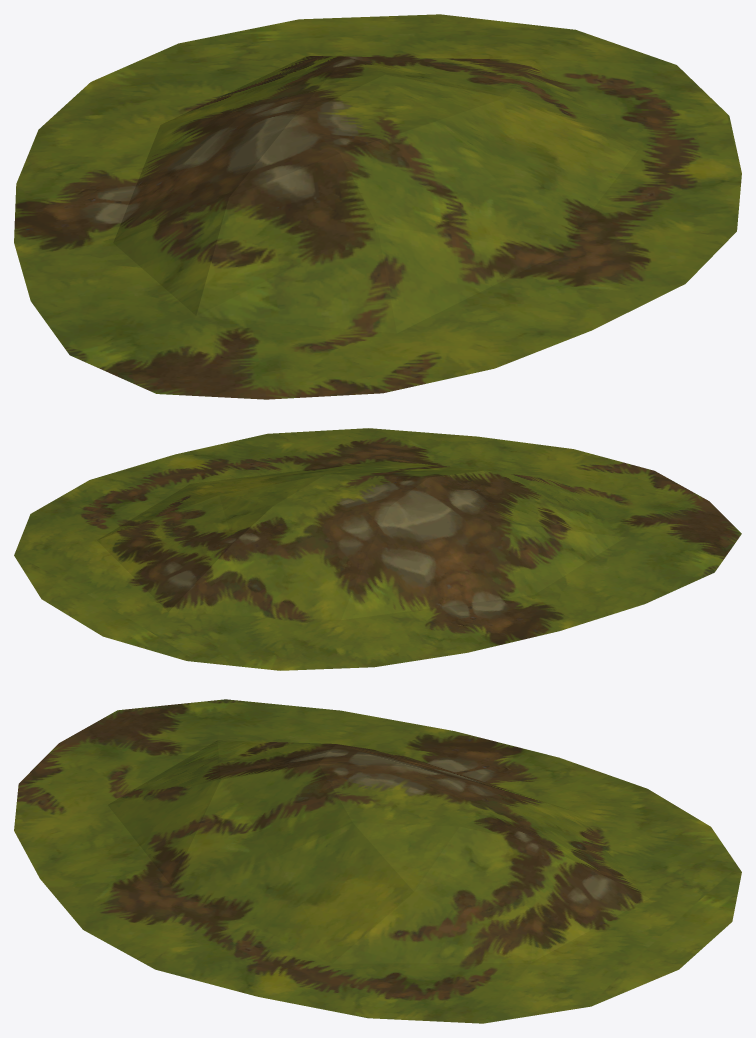
File: small_hill01.fbx
3 views of the same model, one above another, from view 1: azimuth 30°, elevation 25°; view 2: azimuth 150°, elevation 25°; view 3: azimuth 270°, elevation 25° (orthographic). The views are drawn at different scales.
Visible parts, largest first — view 1: obj0.013; view 2: obj0.013; view 3: obj0.013.
Boxes of the visible parts, x1,y1,x2,y2 form: obj0.013: [14, 14, 741, 399]; obj0.013: [14, 428, 741, 670]; obj0.013: [14, 699, 741, 1023].
Size of the model in its own units: 12.66 by 1.36 by 12.01.
